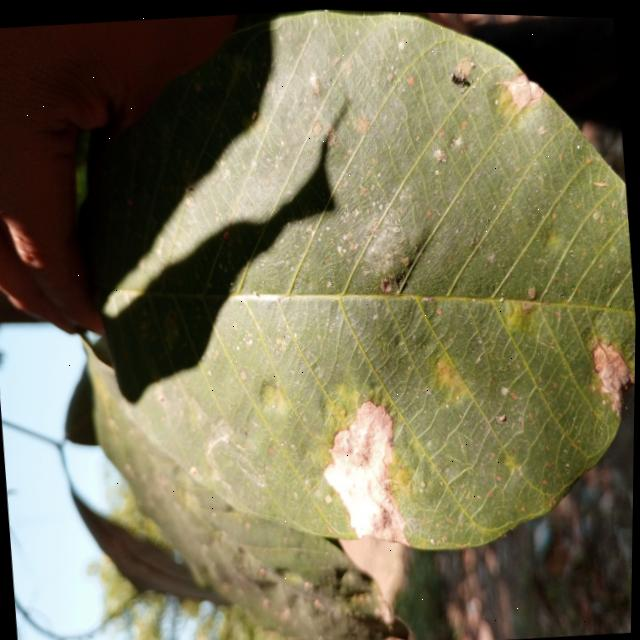Colletotrichum: (401, 462, 403, 464)
Leaf-Blight: (317, 393, 412, 548), (590, 334, 636, 412)
